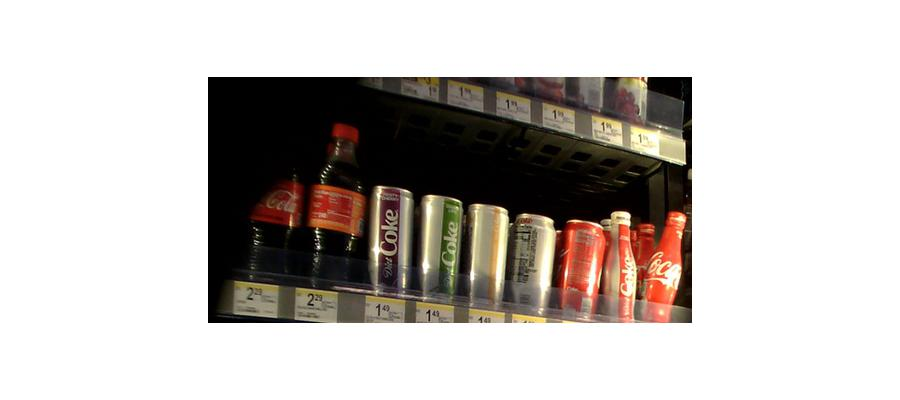bottle: (310, 116, 364, 290), (250, 134, 301, 279), (365, 179, 416, 298), (463, 199, 509, 312), (645, 204, 687, 322), (417, 192, 461, 301), (558, 214, 604, 317), (512, 211, 556, 317), (605, 207, 644, 321)
